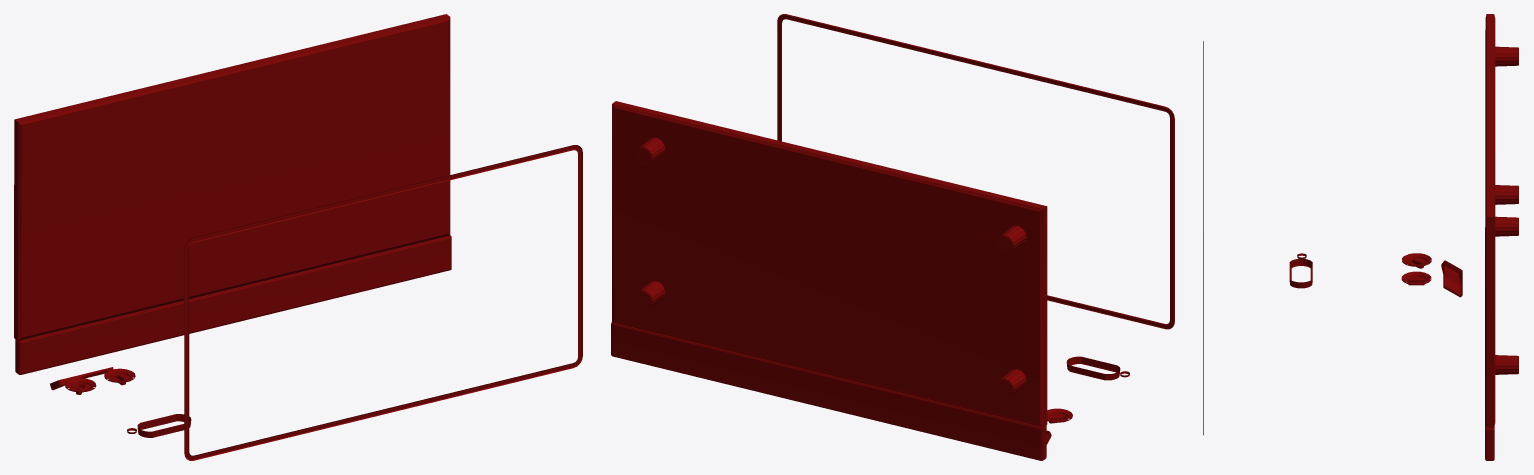
Rendered from BodymeshMicrowaveC9_0_GeomSubset_1.obj.
3 renders of one model, left to right at view 1: azimuth 30°, elevation 25°; view 2: azimuth 150°, elevation 25°; view 3: azimuth 270°, elevation 25°, orthographic. The views are drawn at different scales.
Parts seen in each view (by area): view 1: BodymeshMicrowaveC9_0_GeomSubset_1; view 2: BodymeshMicrowaveC9_0_GeomSubset_1; view 3: BodymeshMicrowaveC9_0_GeomSubset_1.
Boxes of the visible parts, left/top/right/bottom form: BodymeshMicrowaveC9_0_GeomSubset_1: left=14, top=14, right=582, bottom=460; BodymeshMicrowaveC9_0_GeomSubset_1: left=611, top=14, right=1174, bottom=460; BodymeshMicrowaveC9_0_GeomSubset_1: left=1203, top=14, right=1518, bottom=460.
Size of the model in its own units: 0.5628 by 0.3246 by 0.3688.
